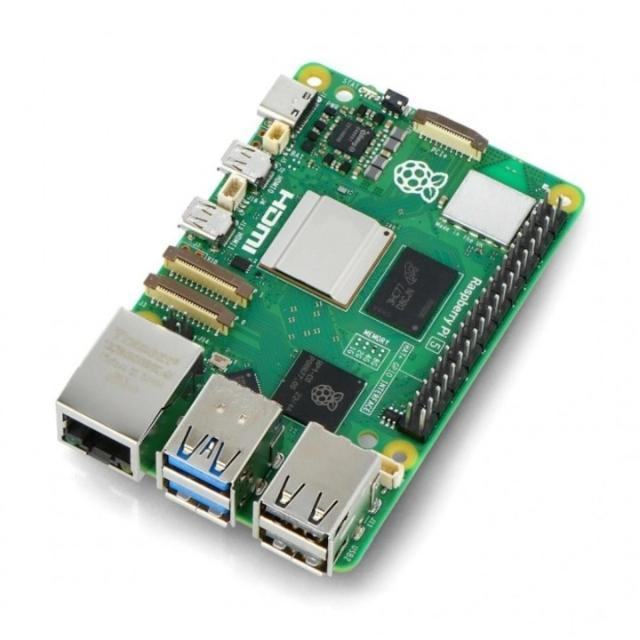Raspberry-Pi-5: (57, 62, 585, 576)
